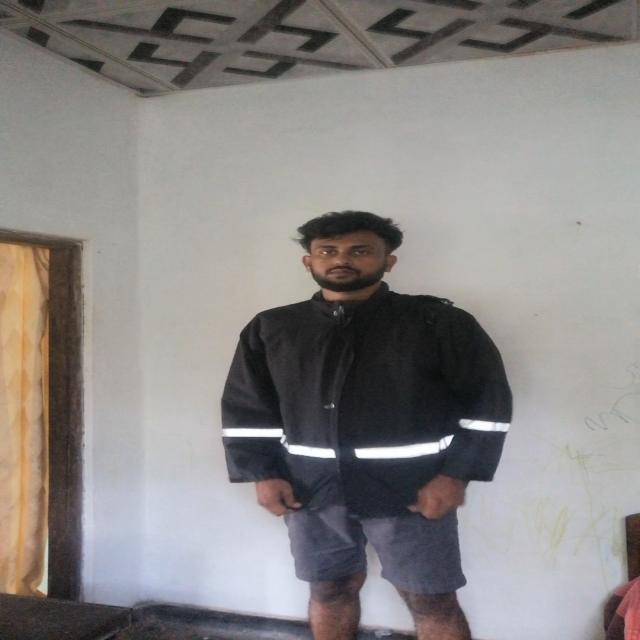Jacket_Wearer: (203, 281, 559, 505)
